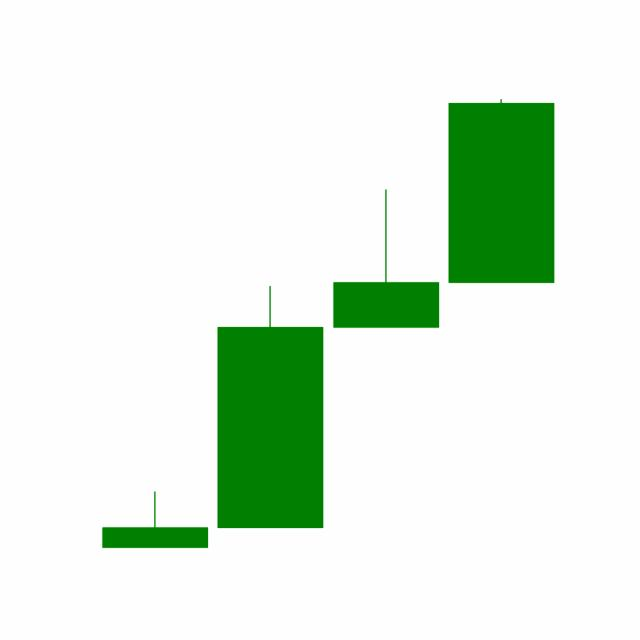Marubozu: (443, 96, 559, 284)
